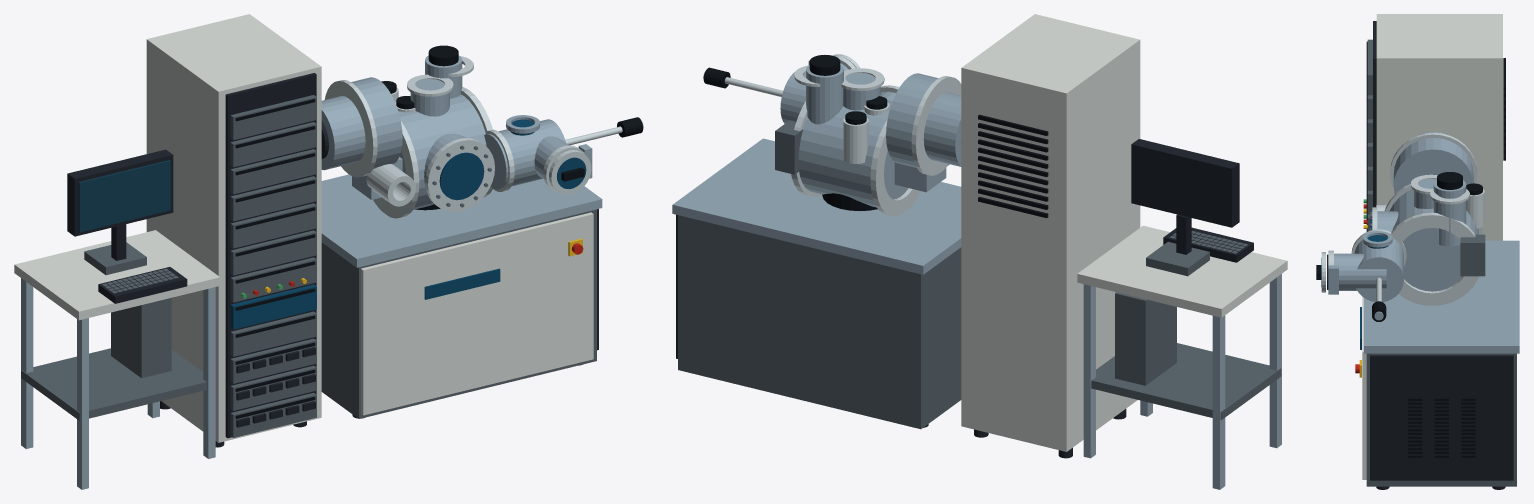
The model's file is versaprobe-ii.glb.
3 views of the same model, side by side, from view 1: azimuth 30°, elevation 25°; view 2: azimuth 150°, elevation 25°; view 3: azimuth 270°, elevation 25° (orthographic). The views are drawn at different scales.
Parts seen in each view (by area): view 1: controls, cabinet, workstation, analysis_chamber, analyzer, host_panel, intro_chamber, al_source, intro_cover, transfer_arm; view 2: controls, cabinet, workstation, analysis_chamber, analyzer, al_source, intro_chamber, transfer_arm; view 3: cabinet, controls, analysis_chamber, intro_chamber, al_source, analyzer, transfer_arm, intro_cover.
Part boxes in pixels (bbox=[...]): controls: bbox=[146, 14, 321, 447]; cabinet: bbox=[321, 174, 602, 418]; workstation: bbox=[14, 149, 220, 489]; analysis_chamber: bbox=[373, 74, 494, 218]; analyzer: bbox=[321, 77, 416, 206]; host_panel: bbox=[78, 160, 170, 232]; intro_chamber: bbox=[484, 115, 592, 192]; al_source: bbox=[381, 45, 473, 112]; intro_cover: bbox=[549, 150, 591, 194]; transfer_arm: bbox=[565, 117, 643, 145]; controls: bbox=[961, 14, 1140, 458]; cabinet: bbox=[672, 138, 961, 429]; workstation: bbox=[1077, 139, 1287, 489]; analysis_chamber: bbox=[791, 68, 921, 216]; analyzer: bbox=[886, 73, 961, 192]; al_source: bbox=[775, 55, 889, 174]; intro_chamber: bbox=[780, 55, 855, 123]; transfer_arm: bbox=[703, 67, 782, 96]; cabinet: bbox=[1355, 240, 1519, 489]; controls: bbox=[1363, 14, 1505, 240]; analysis_chamber: bbox=[1370, 174, 1482, 305]; intro_chamber: bbox=[1327, 229, 1406, 301]; al_source: bbox=[1430, 172, 1485, 276]; analyzer: bbox=[1376, 131, 1477, 211]; transfer_arm: bbox=[1372, 277, 1386, 321]; intro_cover: bbox=[1316, 252, 1325, 292].
Bounding box in the file's own units: 3.02 × 1.85 × 1.07.
